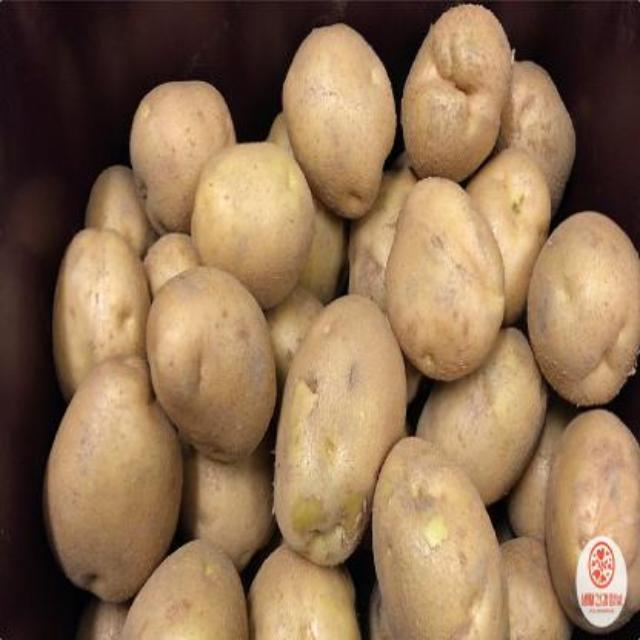Potato: (38, 350, 192, 606), (276, 297, 408, 575), (400, 308, 548, 518), (145, 256, 281, 478), (376, 430, 510, 634), (385, 0, 523, 186), (382, 171, 504, 377), (282, 25, 400, 237), (525, 198, 631, 432), (536, 400, 640, 632), (192, 139, 314, 295), (50, 225, 150, 398), (452, 136, 546, 318), (126, 80, 236, 234), (492, 51, 602, 187), (111, 536, 251, 640), (255, 540, 367, 640), (83, 162, 155, 242)
